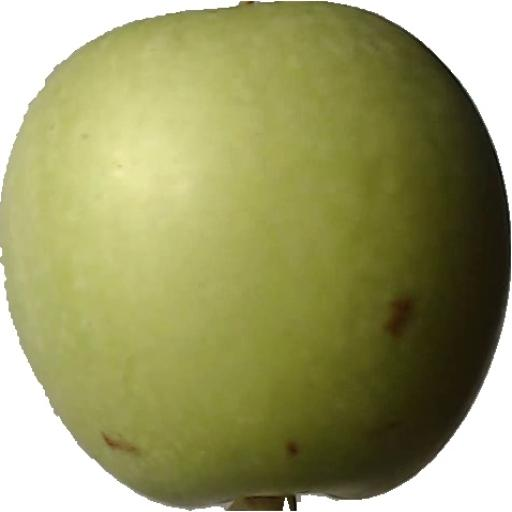apple-unripe: (0, 11, 512, 512)
